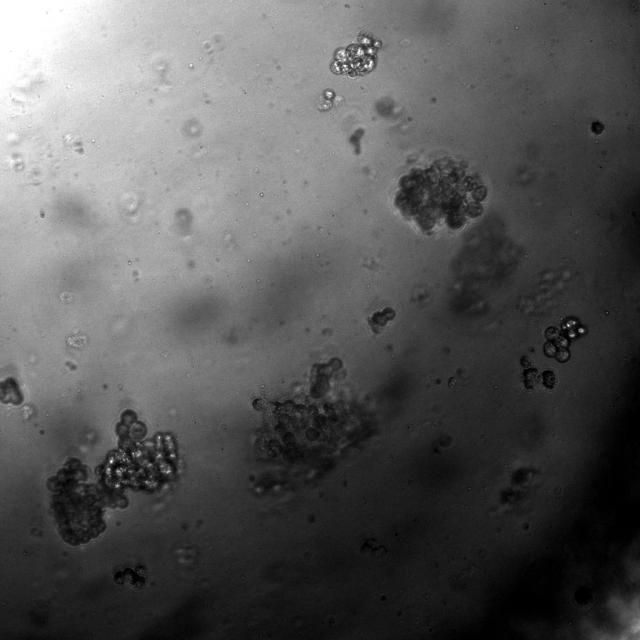organoid: (247, 356, 409, 495), (44, 407, 188, 549), (393, 156, 488, 237), (449, 217, 524, 317), (517, 270, 571, 315), (330, 31, 381, 77), (543, 316, 588, 363), (500, 466, 538, 505), (520, 355, 558, 391), (112, 563, 148, 591), (368, 306, 396, 334), (316, 88, 346, 111), (0, 376, 23, 405), (349, 127, 364, 155), (591, 120, 604, 135), (448, 376, 457, 388), (434, 378, 442, 385)
